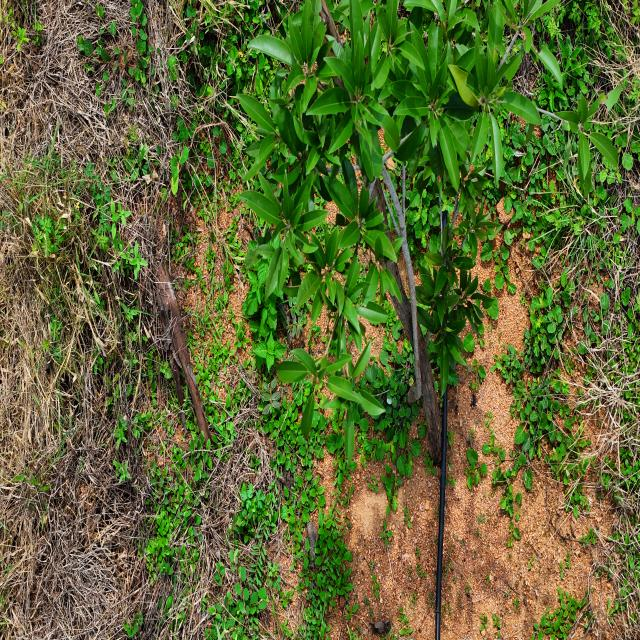notMangoTree: (219, 0, 634, 469)
